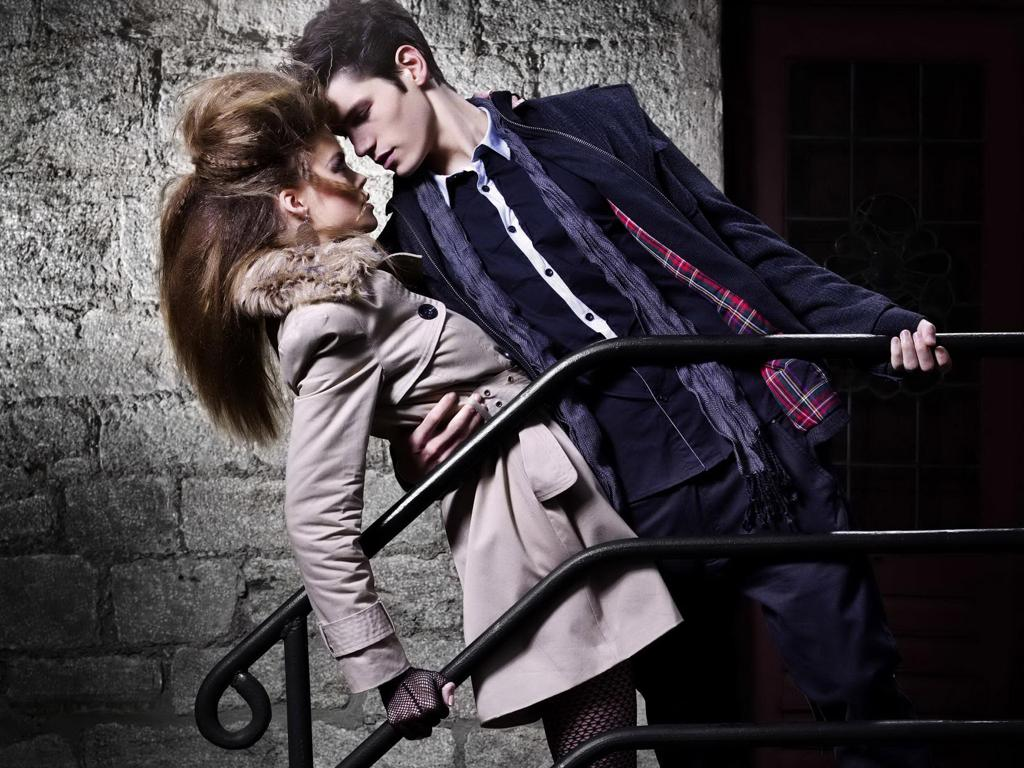face: (320, 76, 430, 174), (300, 130, 380, 234)
